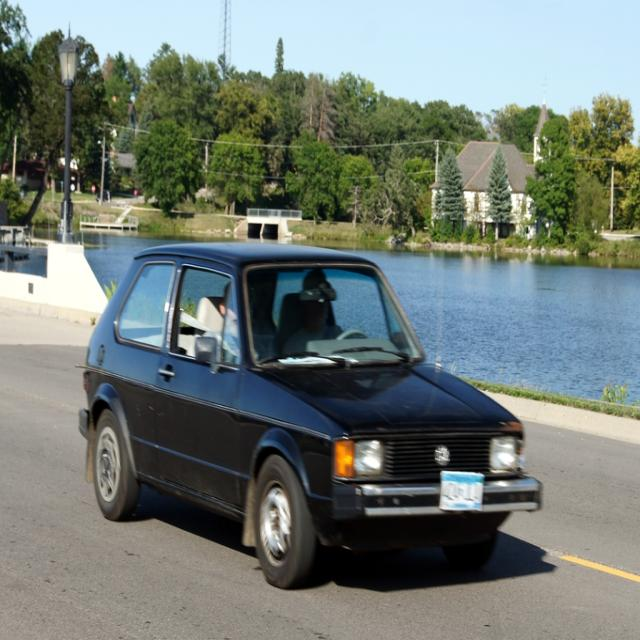Car: (73, 238, 544, 590)
